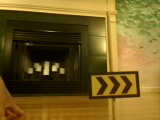right: (89, 72, 139, 96)
